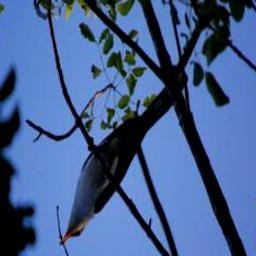Cuckoo: (56, 93, 173, 250)
